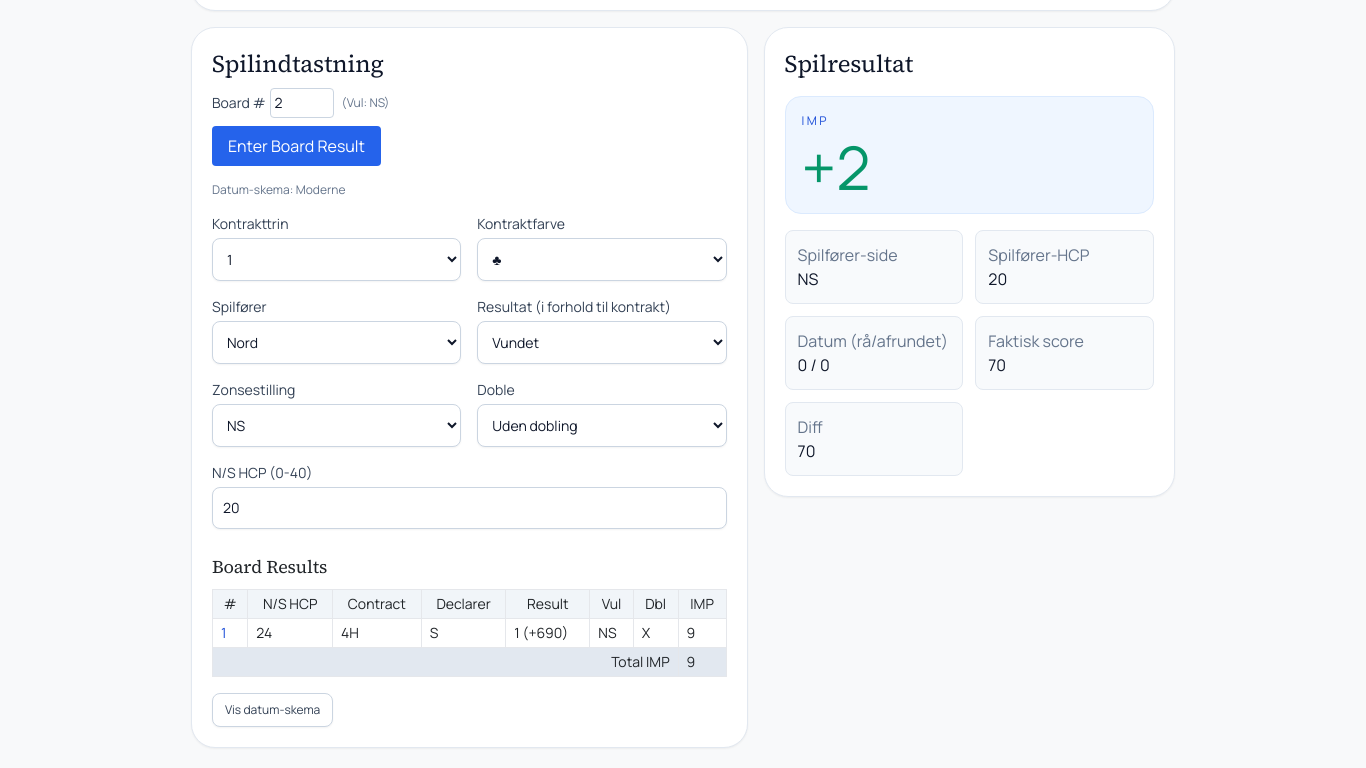
Test: BoardEntry › loads an existing board when board number is clicked in results table
(page scrolled)
Click the button "1".
click(224, 633)  # box [221, 623, 226, 643]
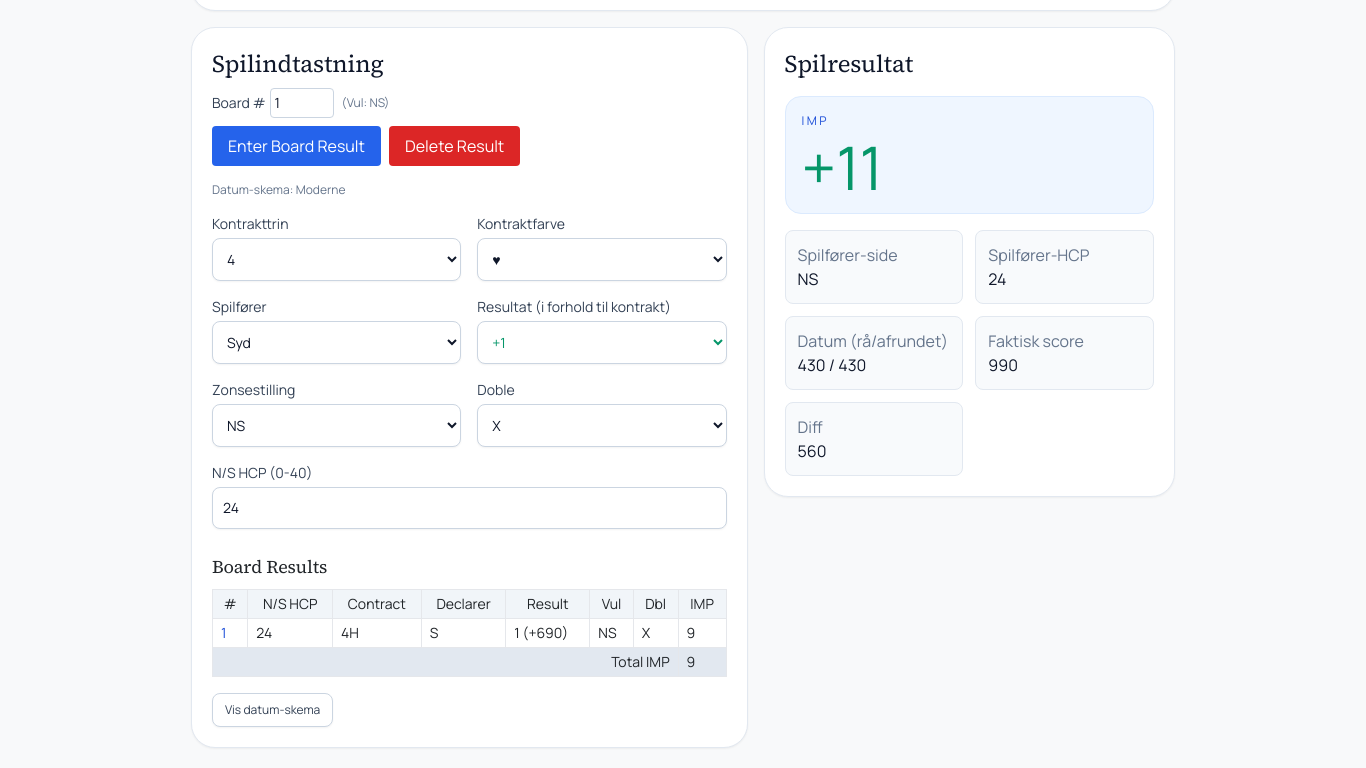
Now the dropdown showing "4" is shown, box [212, 238, 461, 281]
Now the dropdown showing "♥" is shown, box [477, 238, 727, 281]
Now the dropdown showing "Syd" is shown, box [212, 321, 461, 364]
